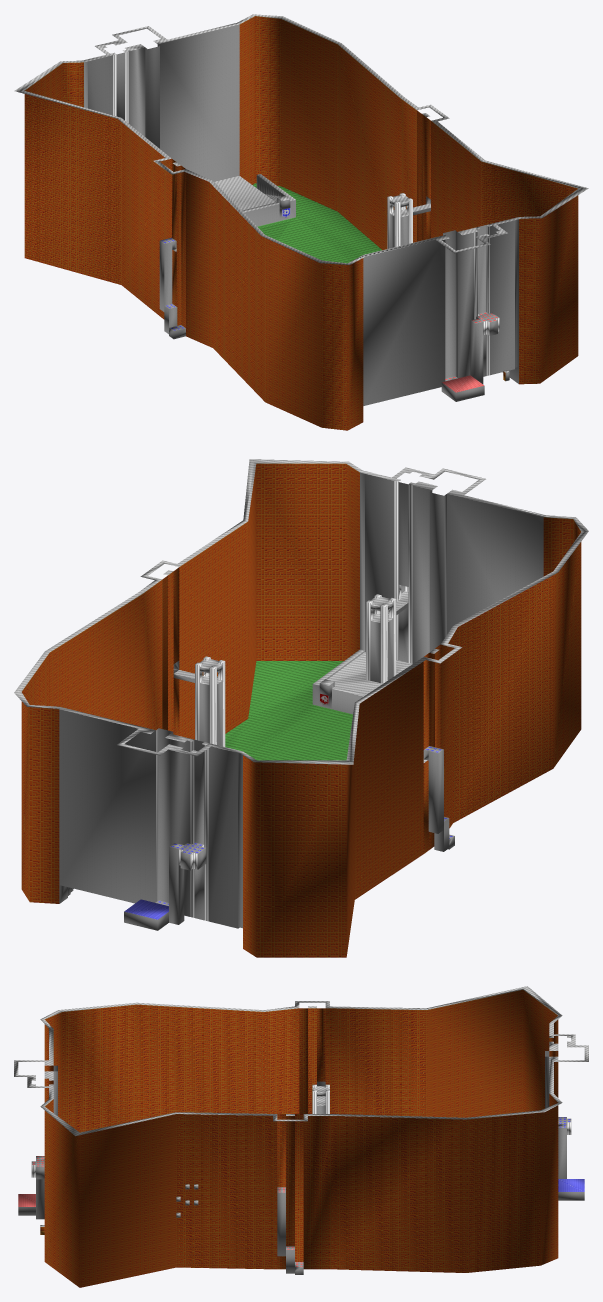
Rendered from F_IronTurret.fbx.
3 views of the same model, one above another, from view 1: azimuth 30°, elevation 25°; view 2: azimuth 150°, elevation 25°; view 3: azimuth 270°, elevation 25° (orthographic). The views are drawn at different scales.
Visible parts, largest first — view 1: MAP85; view 2: MAP85; view 3: MAP85.
Boxes of the visible parts, left/top/right/bottom form: MAP85: left=14, top=14, right=588, bottom=430; MAP85: left=14, top=459, right=588, bottom=957; MAP85: left=14, top=986, right=588, bottom=1287.
Bounding box in the file's own units: 8100 × 3906 × 13100.
